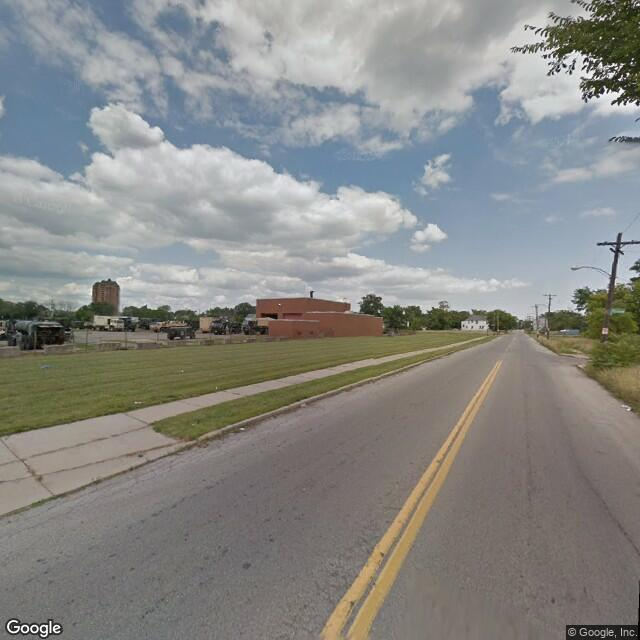litter: (126, 396, 153, 406), (233, 420, 250, 432), (621, 393, 630, 414)
